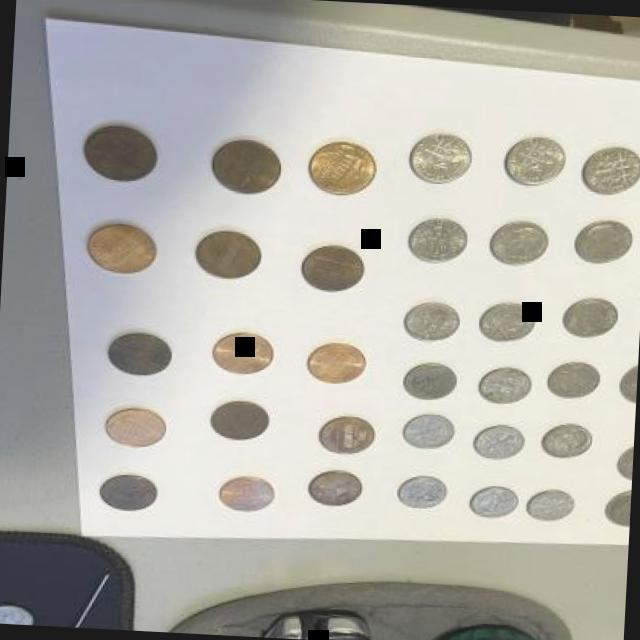Dime: (504, 133, 572, 188), (410, 133, 474, 188), (575, 145, 640, 198), (574, 217, 638, 268), (489, 217, 553, 266), (410, 216, 470, 264), (404, 298, 464, 344), (547, 358, 604, 403), (403, 408, 460, 452), (482, 300, 538, 344), (564, 296, 620, 340), (478, 366, 536, 408), (406, 360, 460, 402), (474, 421, 528, 462), (398, 472, 452, 511), (470, 482, 522, 521), (542, 424, 596, 460), (527, 489, 575, 524)
Nickel: (604, 486, 632, 530), (618, 356, 638, 404), (618, 438, 634, 483)
Penny: (82, 120, 166, 182), (204, 137, 286, 199), (191, 225, 268, 283), (309, 140, 378, 200), (88, 220, 161, 276), (106, 328, 180, 378), (301, 242, 368, 292), (213, 329, 277, 379), (208, 398, 275, 442), (106, 405, 170, 450), (307, 339, 371, 384), (98, 472, 164, 514), (220, 472, 280, 514), (321, 411, 378, 453), (310, 469, 366, 508)
